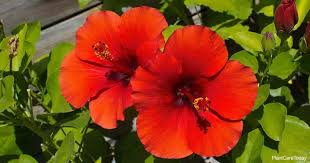hybiscus: (132, 27, 256, 159)
